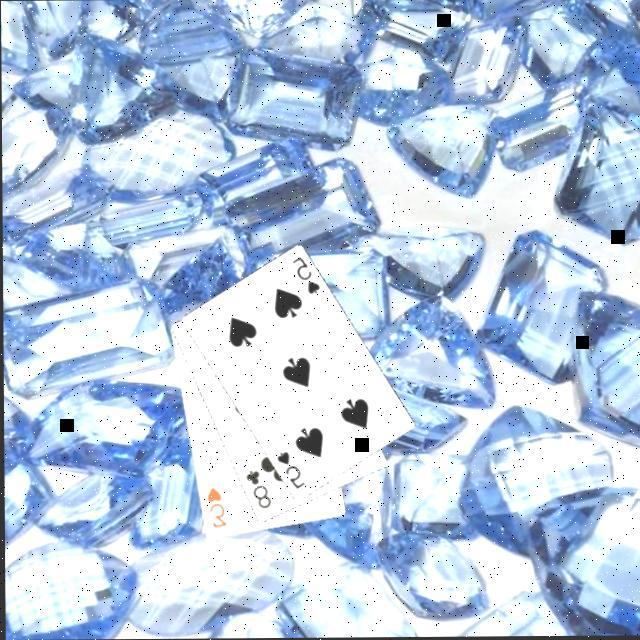3H: (204, 482, 230, 530)
5S: (274, 448, 308, 492), (289, 252, 323, 296)
8C: (242, 466, 274, 510)
